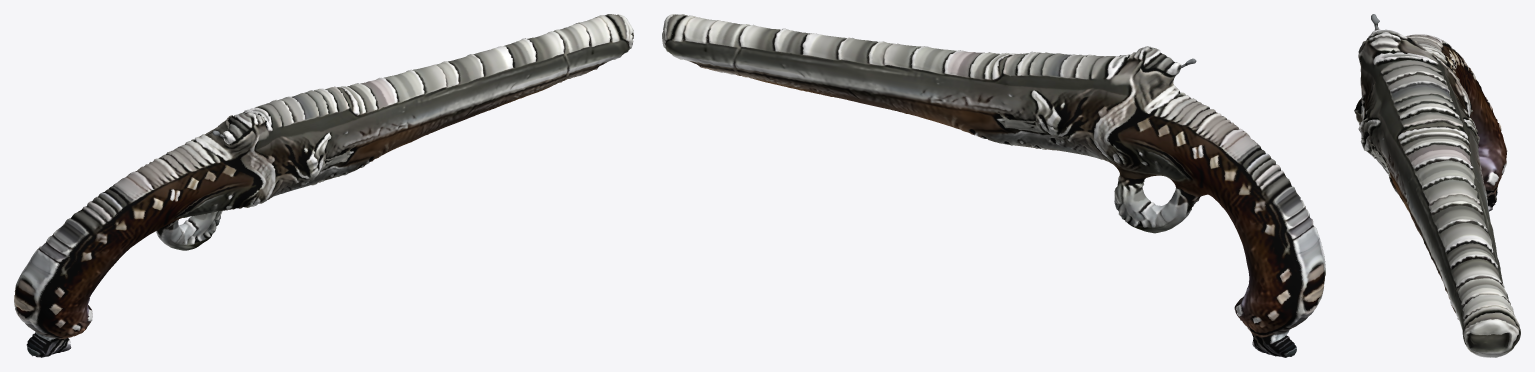
Rendered from kfl-2172.glb.
The picture shows the model from 3 angles, left to right: view 1: azimuth 30°, elevation 25°; view 2: azimuth 150°, elevation 25°; view 3: azimuth 270°, elevation 25°; orthographic projection. The views are drawn at different scales.
Parts seen in each view (by area): view 1: kfl-2172; view 2: kfl-2172; view 3: kfl-2172.
Part boxes in pixels (x1,y1,x2,y2): kfl-2172: (14, 14, 633, 357); kfl-2172: (662, 14, 1325, 357); kfl-2172: (1354, 14, 1520, 357).
Size of the model in its own units: 0.9936 by 0.3507 by 0.1938.
1 material, 1 textured.
